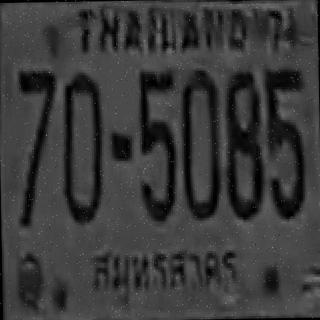N00: (61, 71, 103, 221), (180, 69, 220, 219)
N05: (136, 65, 179, 222), (264, 66, 306, 216)
N07: (16, 69, 56, 228)
N08: (222, 69, 263, 217)
P58: (88, 240, 236, 298)
